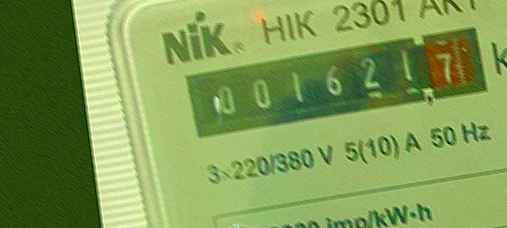0: (248, 74, 275, 113), (214, 81, 238, 117)
1: (396, 45, 415, 83), (287, 68, 306, 105)
2: (357, 53, 383, 92)
6: (321, 62, 344, 99)
7: (432, 48, 457, 87)
screen: (179, 23, 495, 144)
